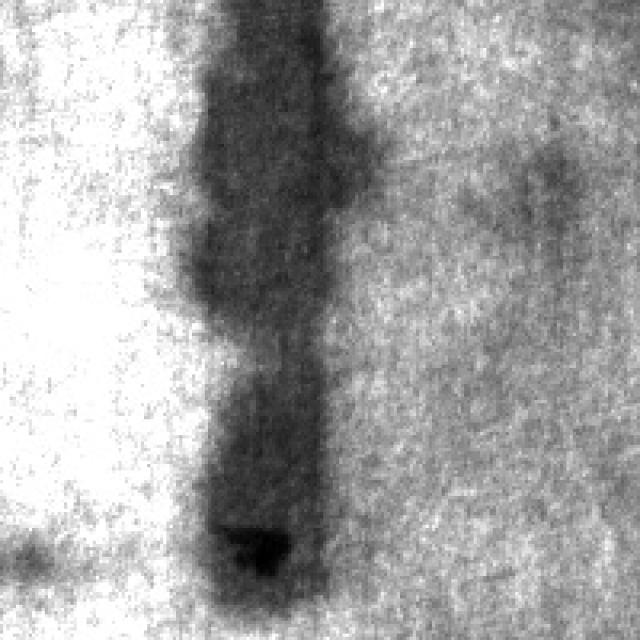patches: (176, 0, 365, 608)
